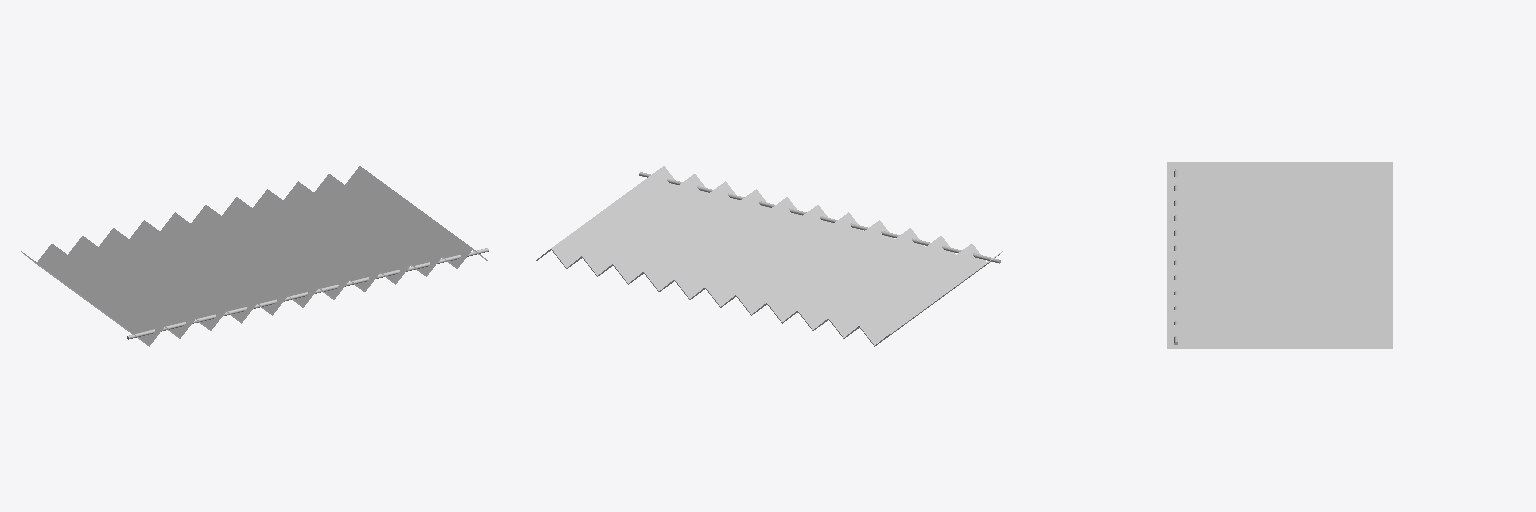
Rendered from tinker_8.obj.
3 views of the same model, side by side, from view 1: azimuth 30°, elevation 25°; view 2: azimuth 150°, elevation 25°; view 3: azimuth 270°, elevation 25° (orthographic).
Parts seen in each view (by area): view 1: obj_0; view 2: obj_0; view 3: obj_0.
Part boxes in pixels (bbox=[...]): obj_0: bbox=[21, 166, 488, 346]; obj_0: bbox=[536, 166, 1002, 346]; obj_0: bbox=[1167, 162, 1392, 348].
Size of the model in its own units: 94.9 by 4.88 by 51.6.